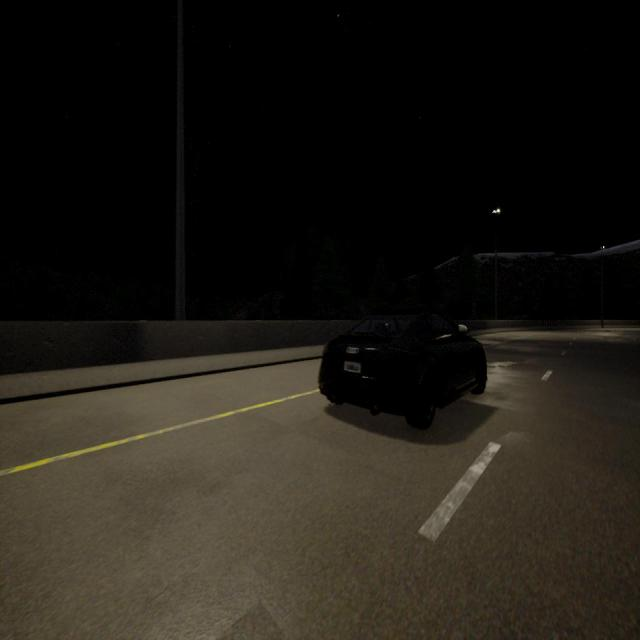Vehicle: (318, 312, 486, 428)
